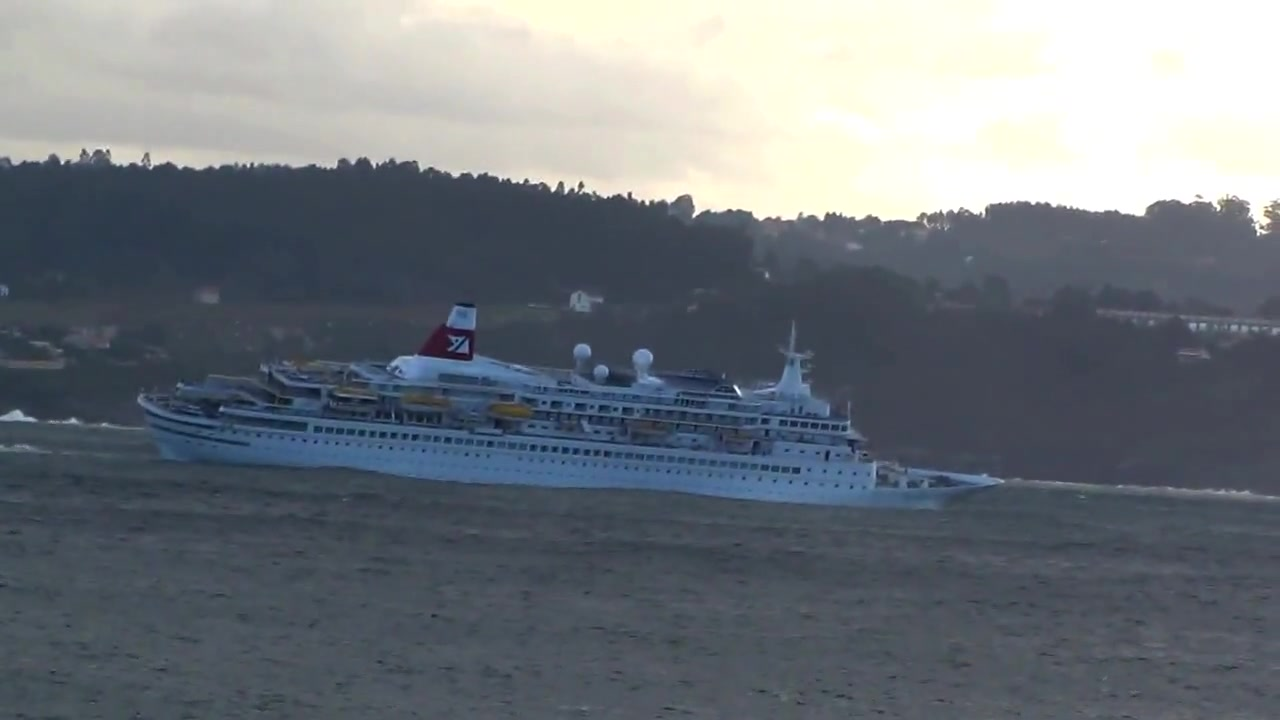boat: (134, 300, 1009, 520)
